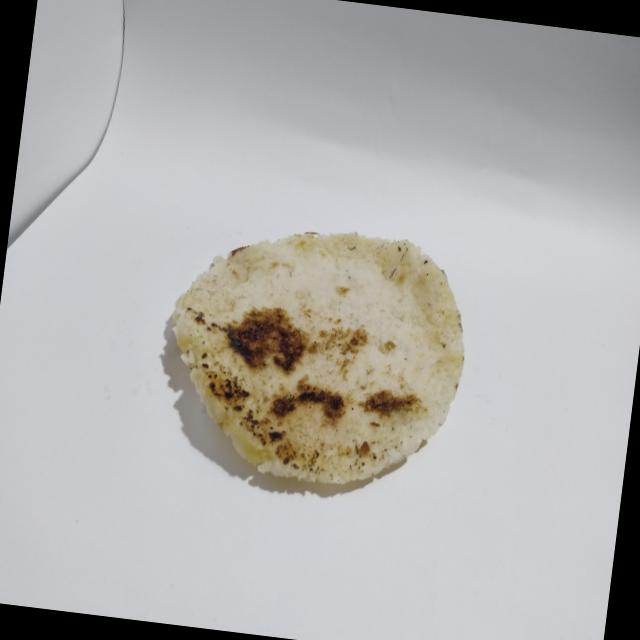Mbeju: (142, 197, 485, 521)
